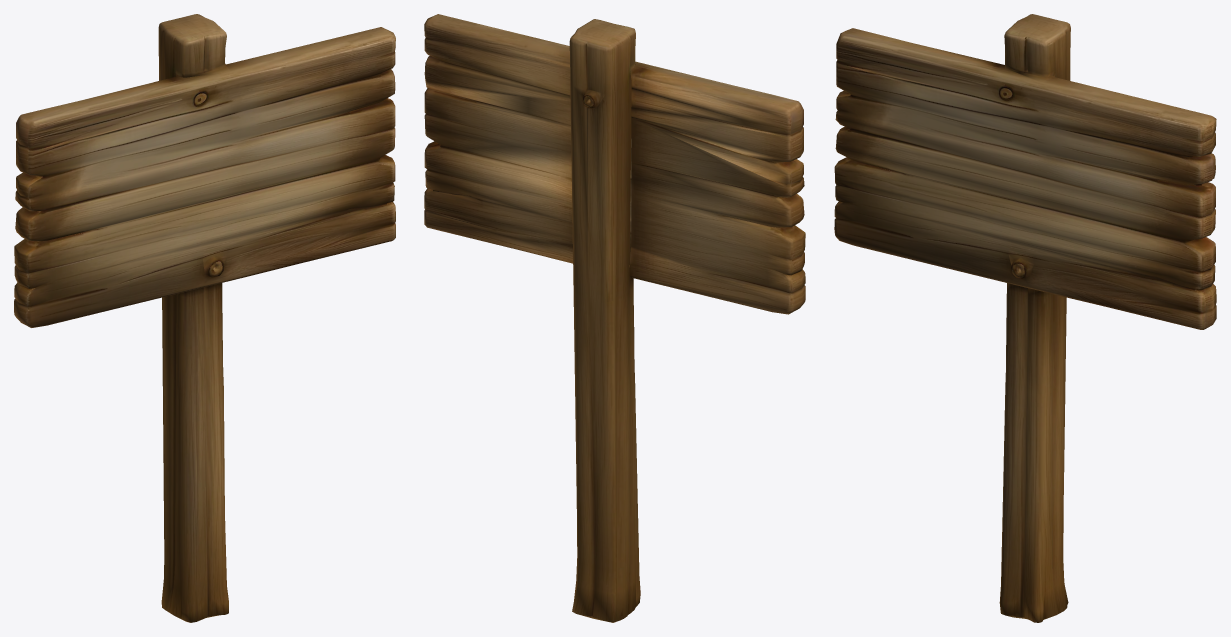
The model's file is sign.glb.
3 renders of one model, left to right at view 1: azimuth 30°, elevation 25°; view 2: azimuth 150°, elevation 25°; view 3: azimuth 330°, elevation 25°, orthographic.
Visible parts, largest first — view 1: material_Material.001_0; view 2: material_Material.001_0; view 3: material_Material.001_0.
Boxes of the visible parts, x1=… form: material_Material.001_0: x1=14, y1=14, x2=395, y2=622; material_Material.001_0: x1=424, y1=14, x2=805, y2=622; material_Material.001_0: x1=834, y1=14, x2=1216, y2=622.
Size of the model in its own units: 1.01 by 1.5 by 0.1804.
1 material, 1 textured.
